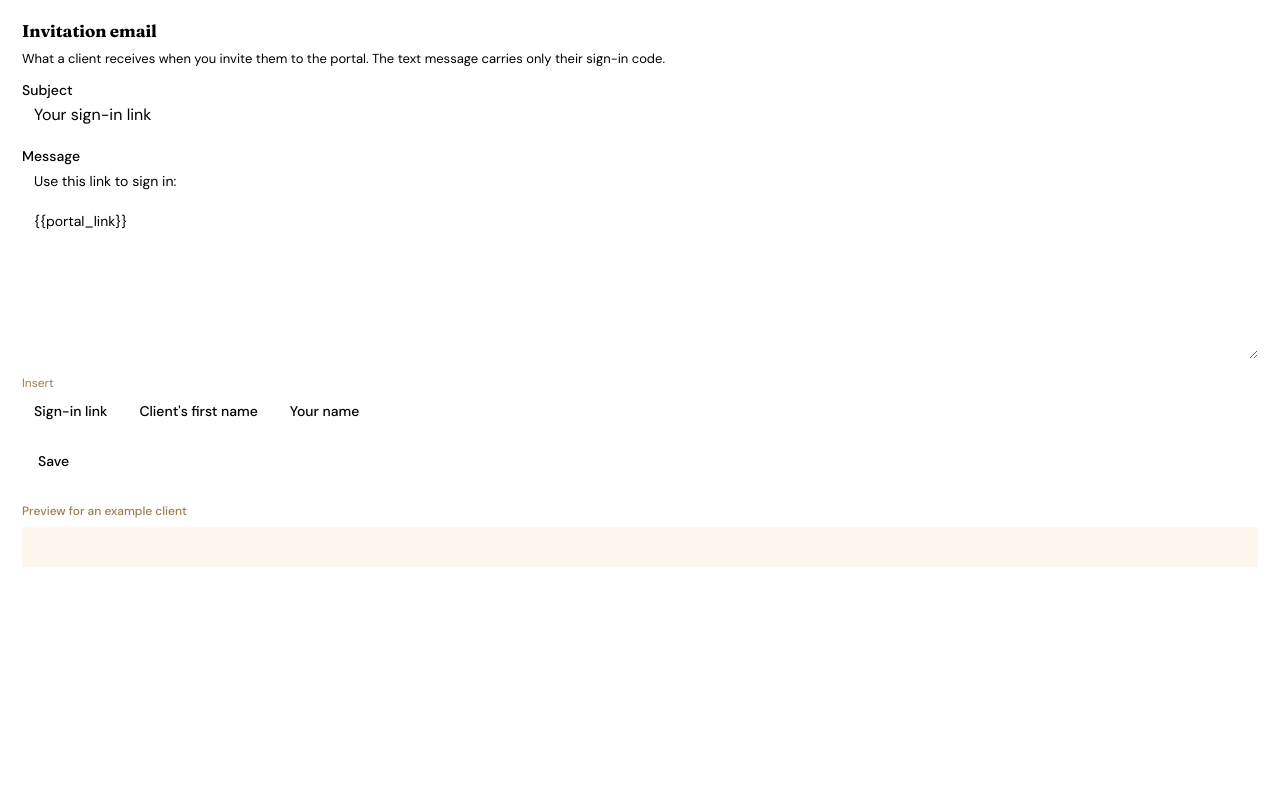
Test: InviteEmailCard › will not save a message without the sign-in link, and says why
Replace the text in the text box labelled "Message" with "Come and see us." at (640, 261), box [22,163,1258,359]
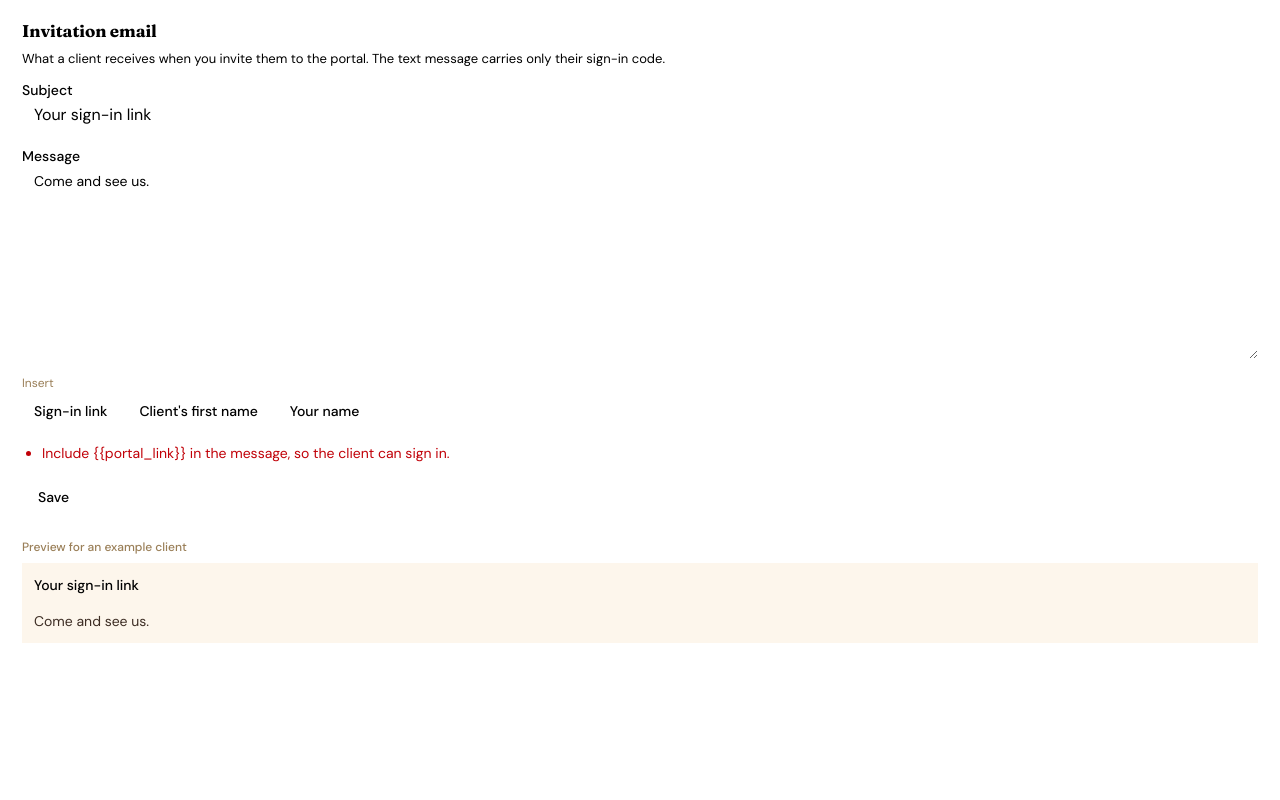
Expected: the button "Save" is disabled, [22,479,85,515]
Now the list with test id "invite-email-problems" shows "Include {{portal_link}}", box [42,444,450,462]
